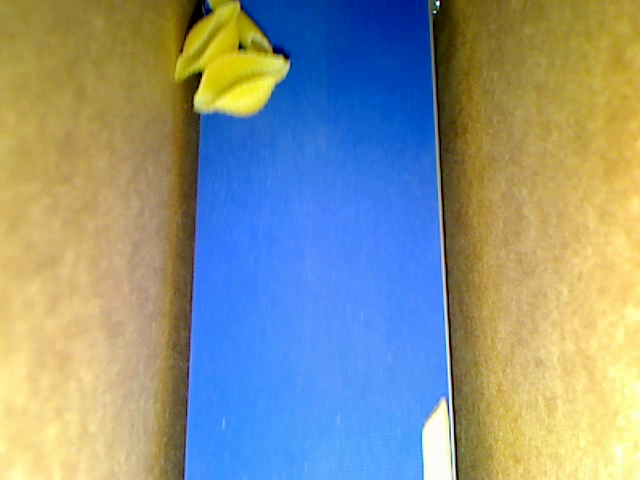penne: (206, 1, 272, 56)
shell: (193, 51, 292, 115), (173, 1, 240, 82)
